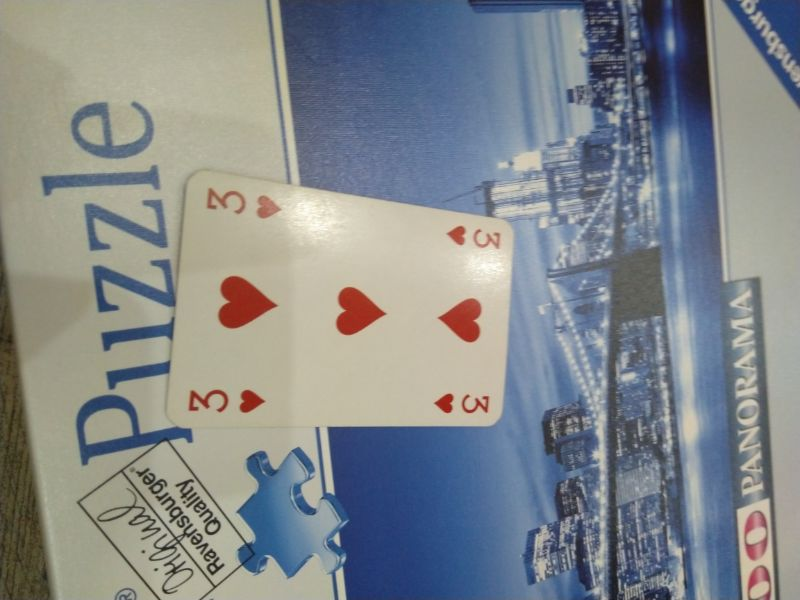3h: (201, 184, 286, 223), (184, 381, 268, 416), (441, 221, 508, 253), (430, 388, 493, 417)
